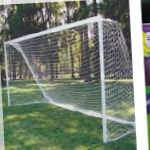goals: (3, 13, 134, 145)
